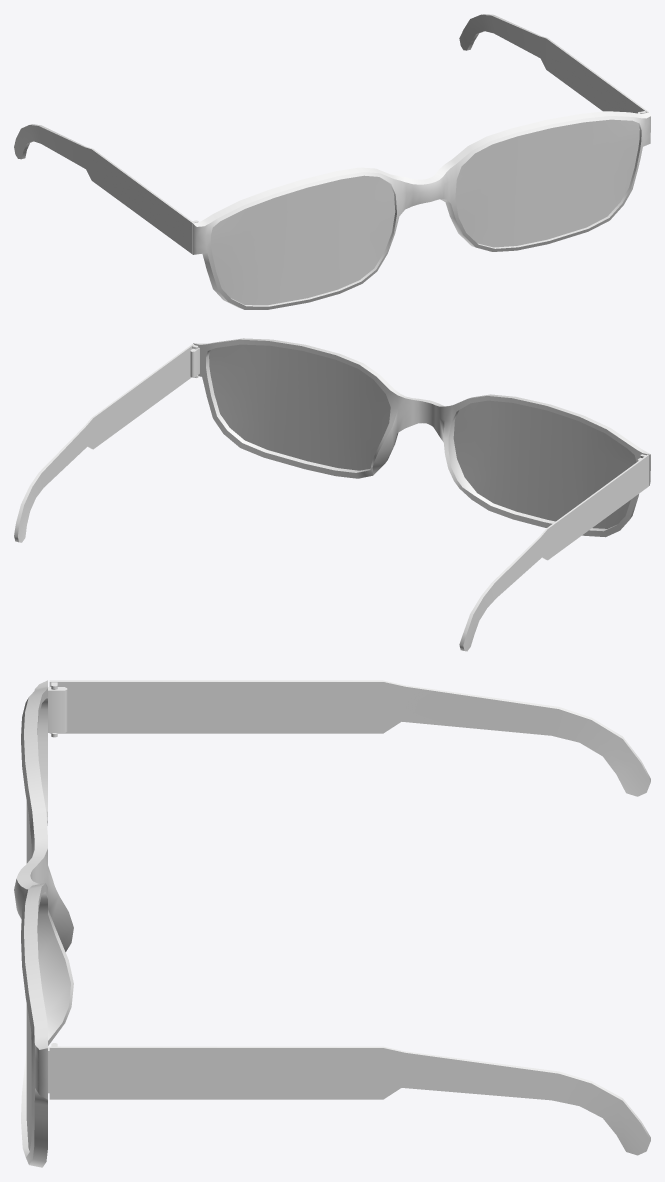
Rendered from Glass.fbx.
3 renders of one model, top to bottom at view 1: azimuth 30°, elevation 25°; view 2: azimuth 150°, elevation 25°; view 3: azimuth 270°, elevation 25°, orthographic. The views are drawn at different scales.
Visible parts, largest first — view 1: Glass.003, Glass, Glass.002, Glass.001; view 2: Glass.003, Glass, Glass.002, Glass.001; view 3: Glass.001, Glass.002, Glass, Glass.003.
Boxes of the visible parts, x1=… form: Glass.003: x1=211, y1=119, x2=639, y2=305; Glass: x1=192, y1=111, x2=650, y2=309; Glass.002: x1=14, y1=124, x2=198, y2=254; Glass.001: x1=459, y1=14, x2=648, y2=113; Glass.003: x1=209, y1=344, x2=636, y2=528; Glass: x1=190, y1=338, x2=650, y2=537; Glass.002: x1=459, y1=454, x2=648, y2=651; Glass.001: x1=14, y1=344, x2=198, y2=542; Glass.001: x1=49, y1=1043, x2=650, y2=1155; Glass.002: x1=49, y1=680, x2=650, y2=796; Glass: x1=14, y1=680, x2=73, y2=1167; Glass.003: x1=26, y1=802, x2=31, y2=1150.
Size of the model in its own units: 17.02 by 4.36 by 12.45.
2 materials, 1 textured.
